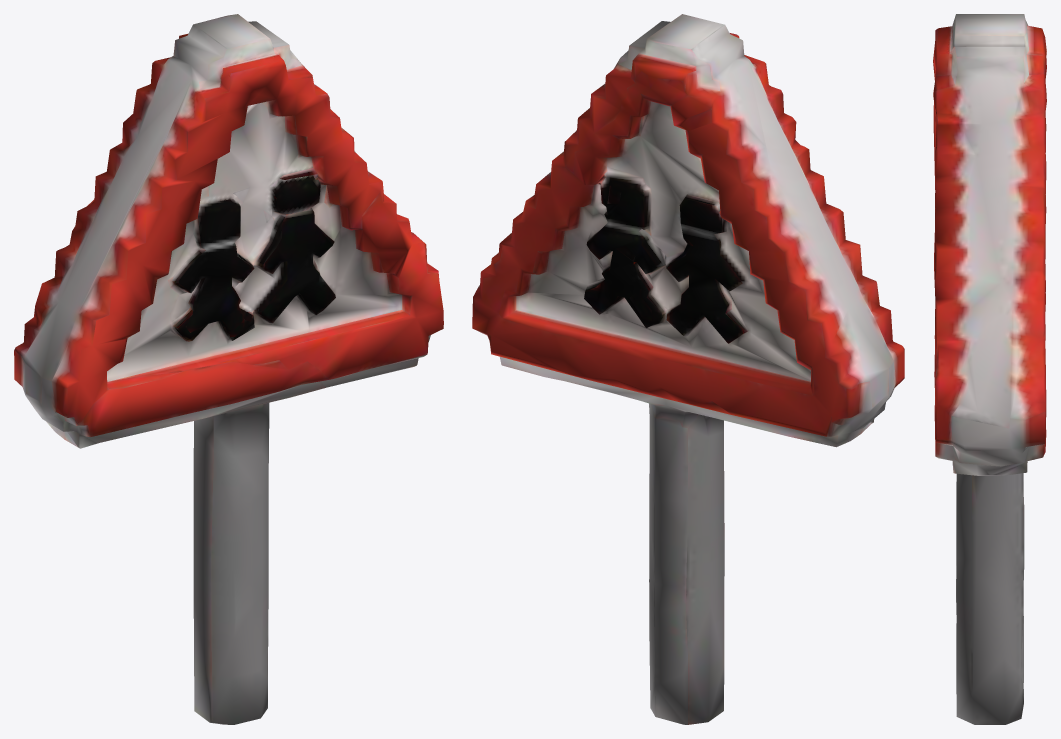
Rendered from traffic-sign-school.glb.
3 views of the same model, side by side, from view 1: azimuth 30°, elevation 25°; view 2: azimuth 150°, elevation 25°; view 3: azimuth 270°, elevation 25° (orthographic).
Visible parts, largest first — view 1: material; view 2: material; view 3: material.
Boxes of the visible parts, bbox=[...] form: material: bbox=[14, 14, 443, 724]; material: bbox=[472, 14, 904, 724]; material: bbox=[933, 14, 1046, 724].
Bounding box in the file's own units: 0.719 × 1.19 × 0.179.
Materials: 1 (1 with a texture image).
